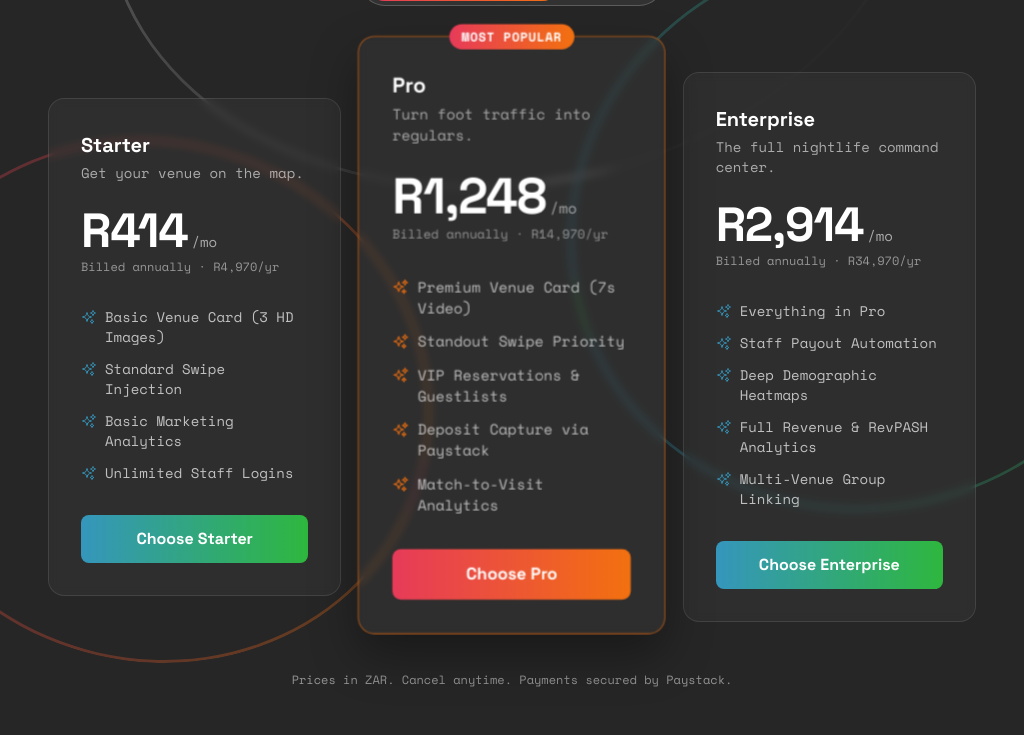
Test: PricingDashboard - 3-Tier Paystack Checkout › starts an annual Pro checkout and redirects to Paystack
The width and height of the screenshot is (1024, 735).
(page scrolled)
Click the button with test id "plan-cta-pro" at (512, 574), box 393,549 -> 631,600
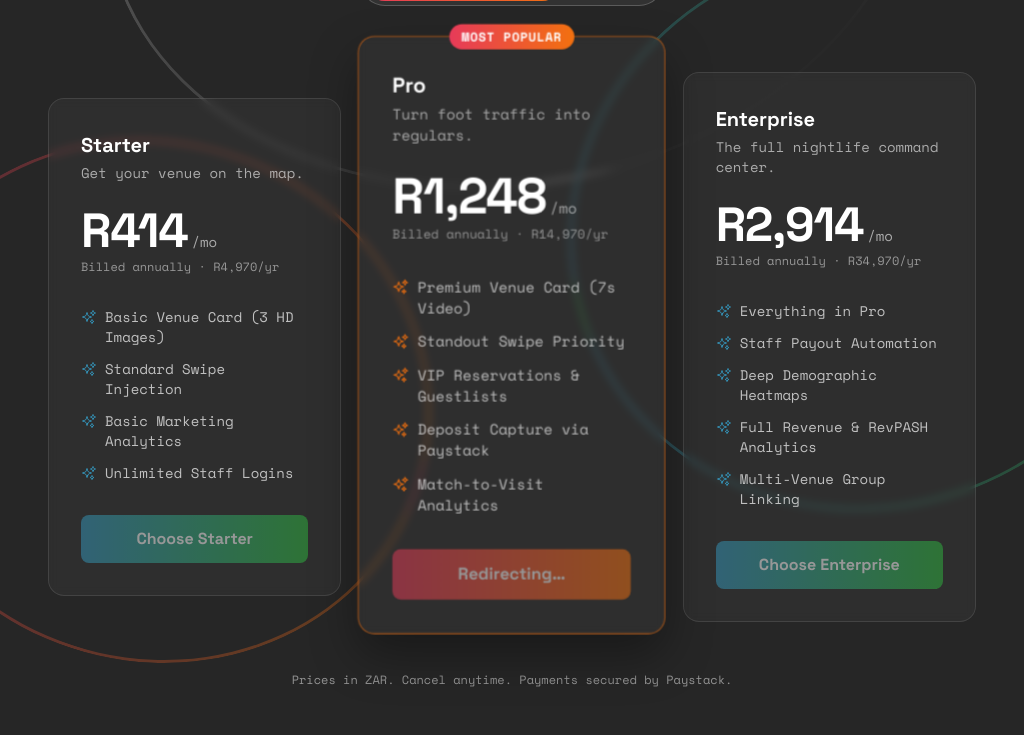
Now the button with test id "plan-cta-pro" reads "Redirecting…", box 393,549 -> 631,600
Now the button with test id "plan-cta-starter" is disabled, box 81,515 -> 308,563
Now the button with test id "plan-cta-enterprise" is disabled, box 716,541 -> 943,589
